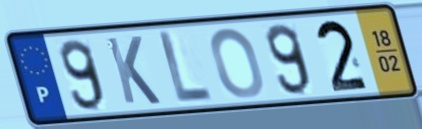2: (315, 17, 370, 94)
9: (264, 21, 312, 97), (58, 37, 106, 112)
K: (103, 34, 164, 107)
L: (156, 29, 215, 105)
O: (208, 25, 266, 101)
